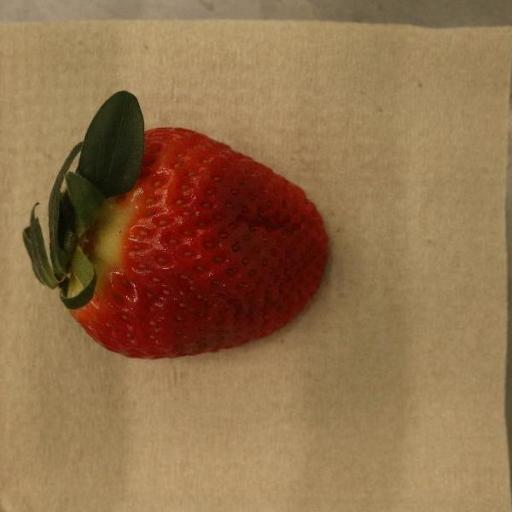Strawberry: (21, 91, 329, 360)
